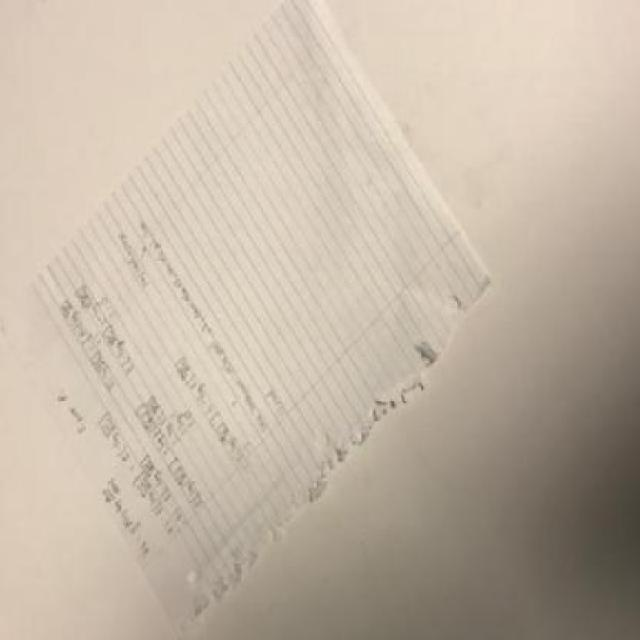PAPER: (24, 0, 490, 628)
